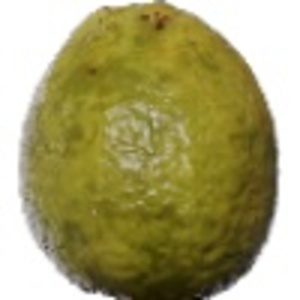goiaba: (14, 2, 284, 296)
